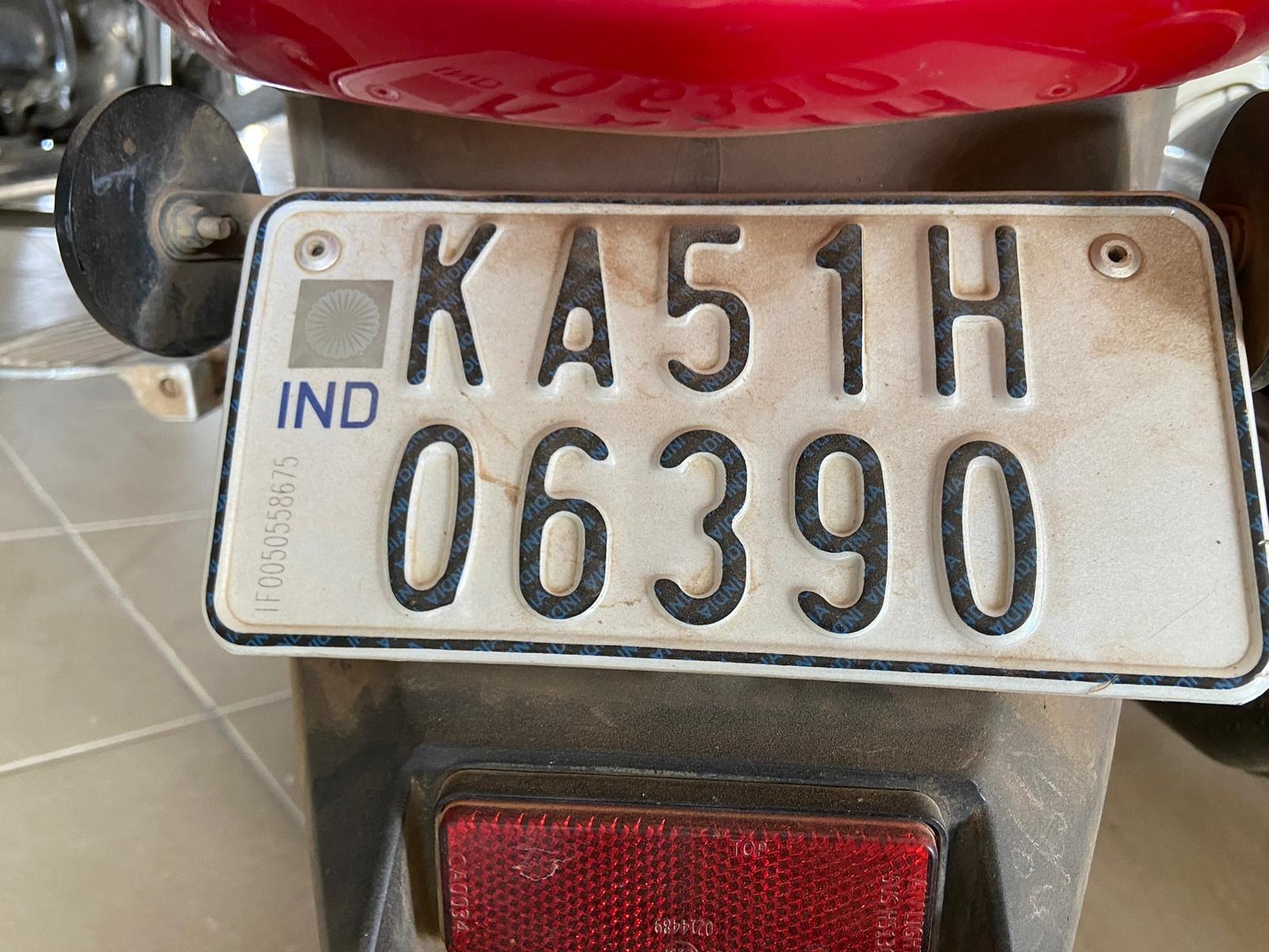0: (936, 435, 1051, 652), (371, 403, 486, 616)
1: (797, 209, 883, 406)
3: (637, 421, 758, 633)
5: (649, 203, 767, 402)
6: (512, 411, 621, 616)
9: (774, 427, 902, 649)
A: (526, 209, 623, 398)
H: (901, 215, 1051, 417)
K: (387, 207, 504, 397)
